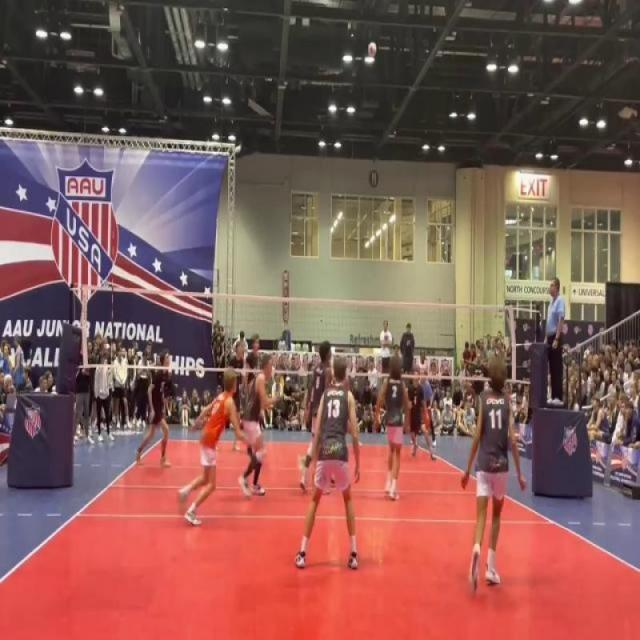volleyball: (367, 40, 377, 59)
